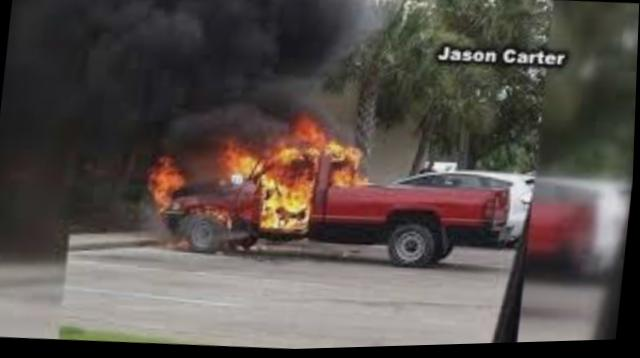fire: (126, 115, 376, 260)
